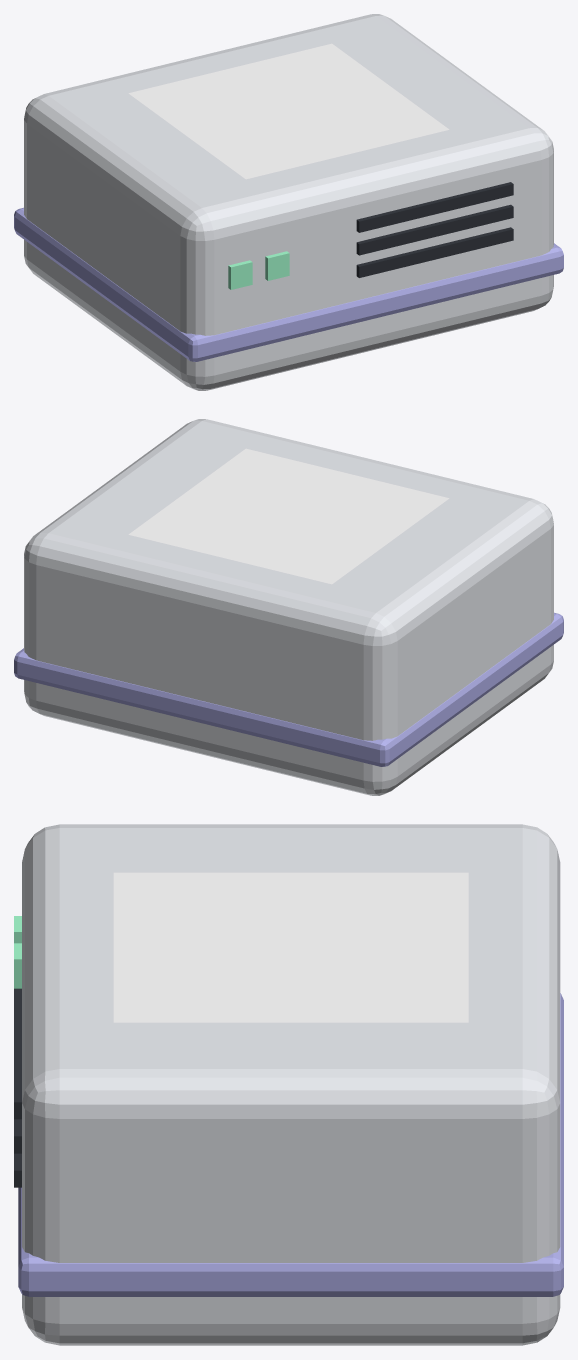
The model's file is service.glb.
The picture shows the model from 3 angles, top to bottom: view 1: azimuth 30°, elevation 25°; view 2: azimuth 150°, elevation 25°; view 3: azimuth 270°, elevation 25°; orthographic projection. The views are drawn at different scales.
Visible parts, largest first — view 1: svc_body, svc_logo, svc_band, svc_vents, svc_leds; view 2: svc_body, svc_logo, svc_band; view 3: svc_body, svc_logo, svc_band, svc_vents.
Boxes of the visible parts, box(x1,y1,x2,y2) form: svc_body: box(24, 14, 553, 390); svc_logo: box(128, 43, 449, 179); svc_band: box(14, 207, 563, 361); svc_vents: box(356, 182, 513, 277); svc_leds: box(228, 251, 289, 289); svc_body: box(24, 419, 553, 795); svc_logo: box(128, 448, 449, 584); svc_band: box(14, 612, 563, 766); svc_body: box(22, 824, 560, 1345); svc_logo: box(113, 872, 468, 1022); svc_band: box(18, 993, 563, 1296); svc_vents: box(14, 988, 21, 1187).
Bounding box in the file's own units: 1.21 × 0.5615 × 1.02.
